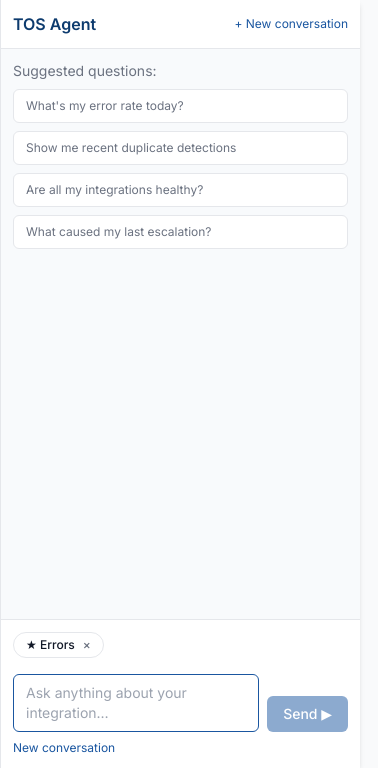
Scenario: Layer 4: AgentPanel › saved prompts load as chips, clicking populates input
The image size is (378, 768).
Click the button "★ Errors".
click(50, 645)  # box 26,637 -> 75,653
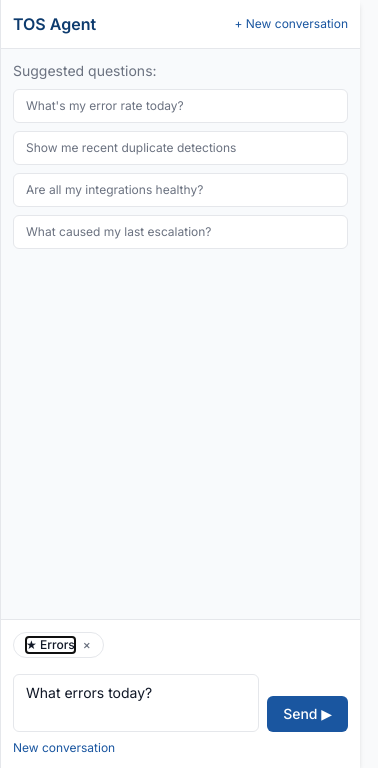
Result: the text box with placeholder "Ask anything about your integration…" holds "What errors today?" at 13,674 -> 259,732
